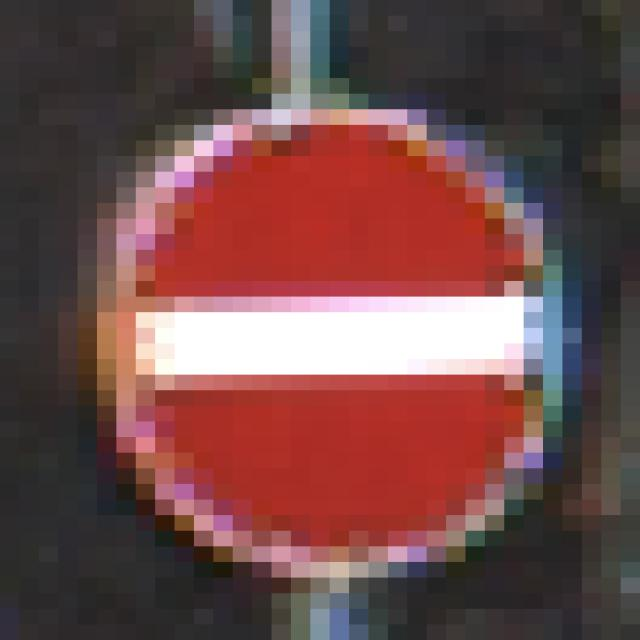No Entry: (98, 95, 544, 563)
